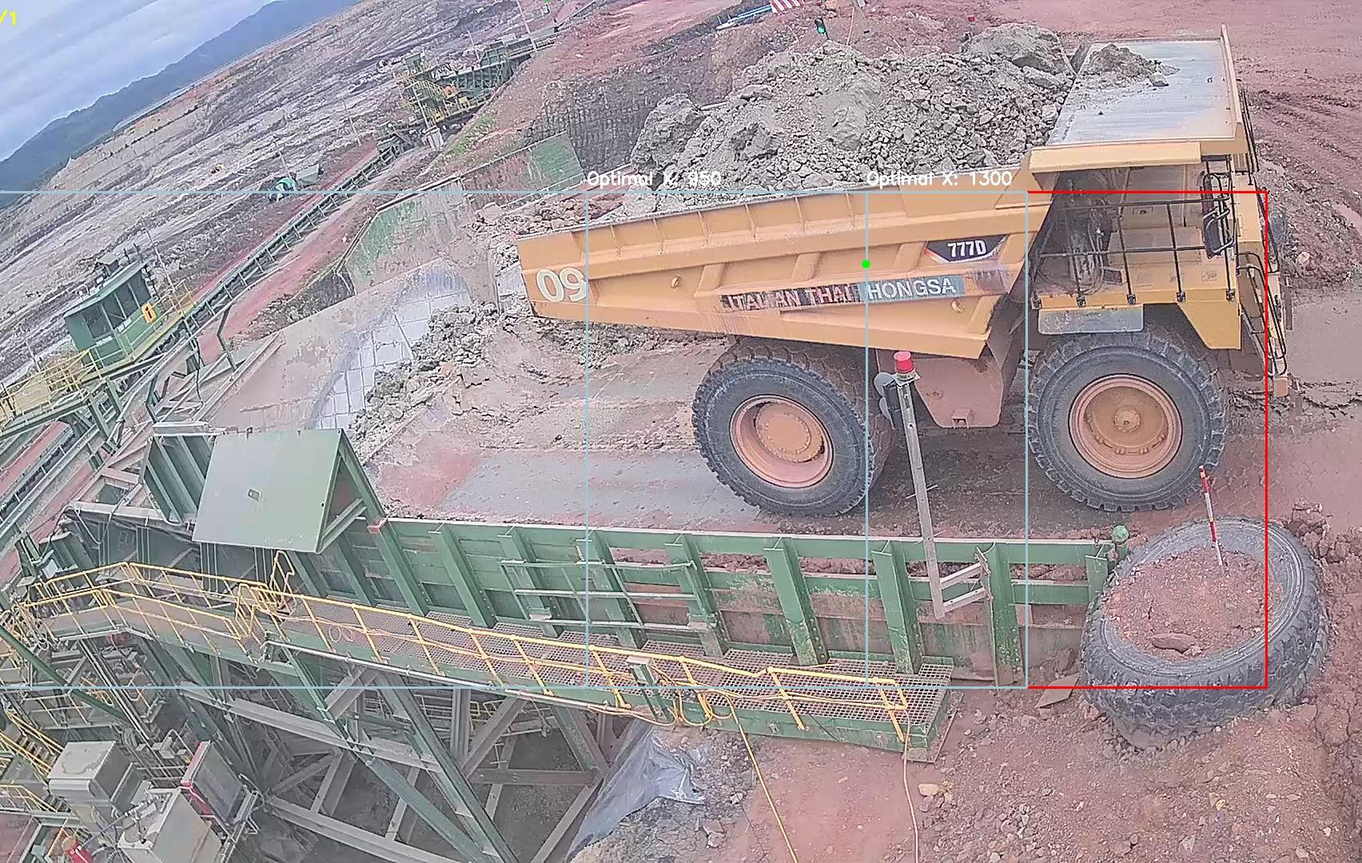company: (713, 266, 977, 317)
full_load: (714, 26, 1040, 210)
mining_truck: (499, 10, 1305, 513)
tail_number: (528, 250, 601, 313)
truck_size: (925, 227, 1015, 265)
